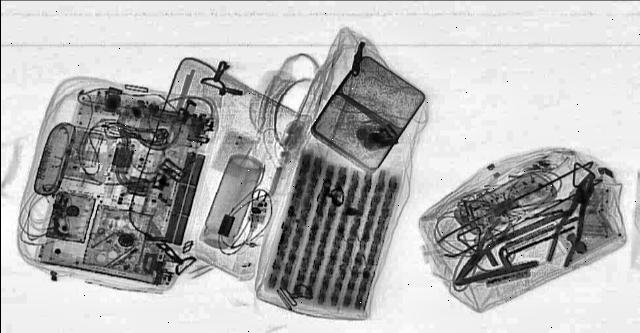Pliers: (542, 172, 600, 268), (445, 217, 519, 282)
